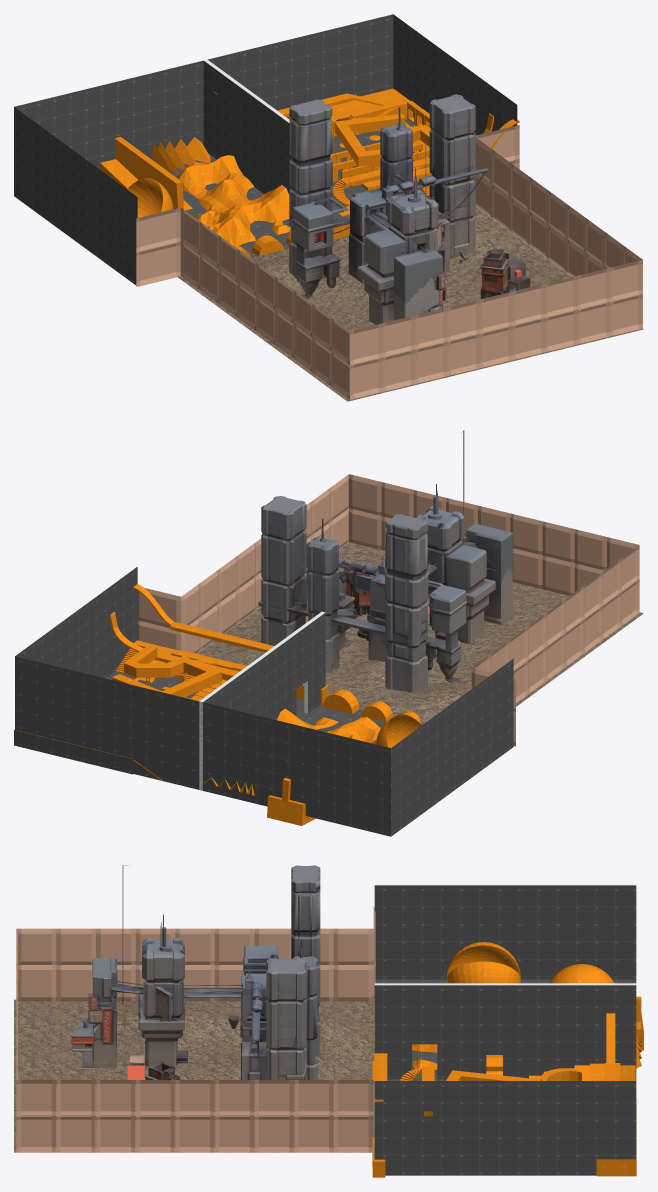
Rendered from level-001-v003.glb.
3 views of the same model, one above another, from view 1: azimuth 30°, elevation 25°; view 2: azimuth 150°, elevation 25°; view 3: azimuth 270°, elevation 25° (orthographic). The views are drawn at different scales.
Visible parts, largest first — view 1: level; view 2: level; view 3: level.
Part boxes in pixels (box(x1,y1,x2,y2)): level: box(14, 14, 643, 401); level: box(14, 430, 643, 836); level: box(14, 865, 643, 1177).
Size of the model in its own units: 84.26 by 44.55 by 113.
Materials: 6 (5 with a texture image).
